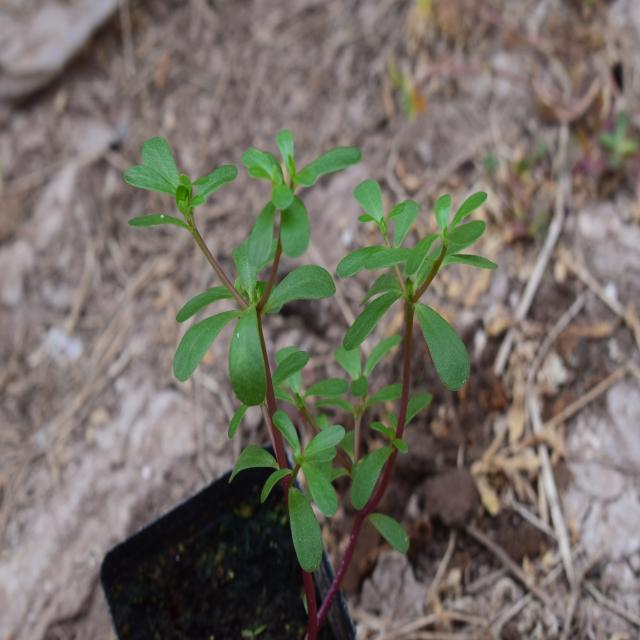purslane: (125, 136, 490, 550)
